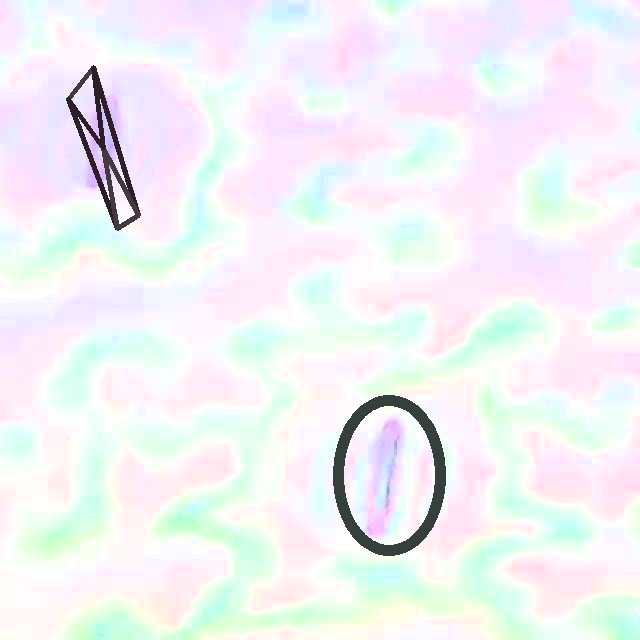open: (333, 395, 445, 555), (66, 65, 140, 230)
